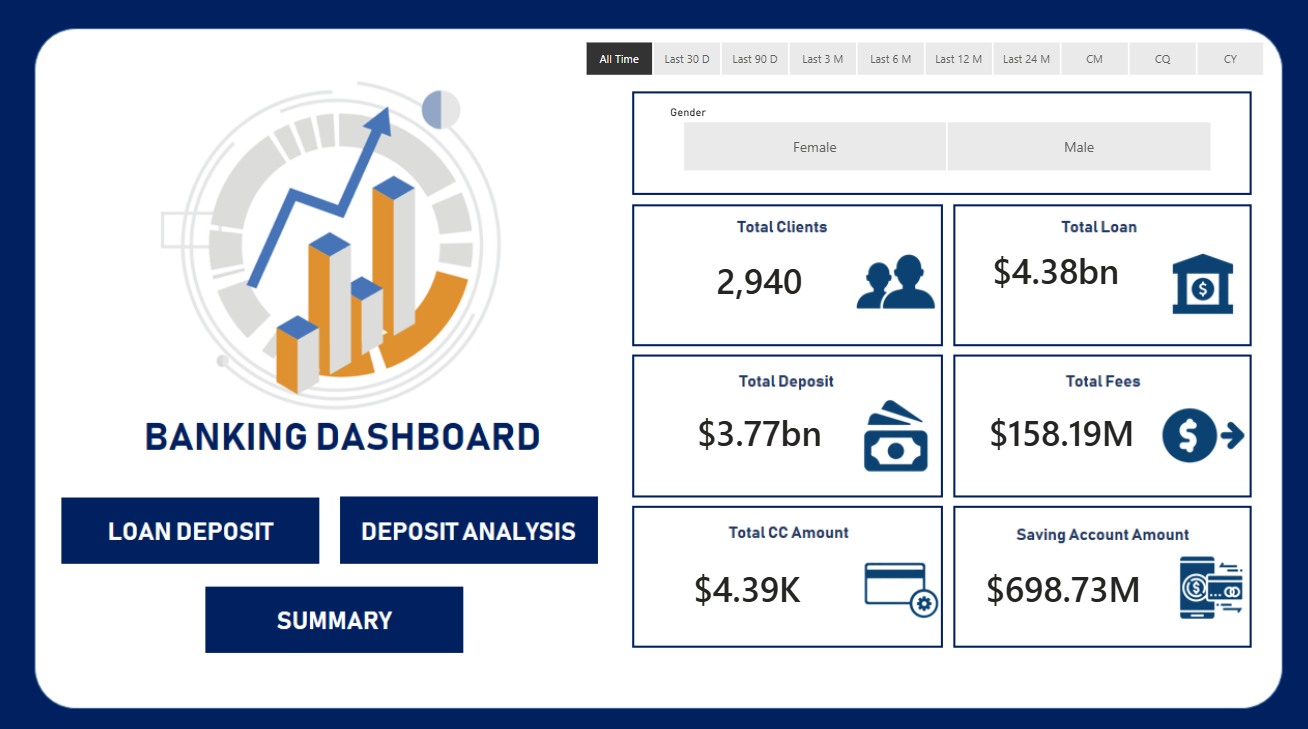

What the dashboard file says about the page in this screenshot:
{"tool":"powerbi","page":{"name":"Home 2","canvas":[1280,720],"ordinal":1},"visuals":[{"type":"card","fields":{"Values":["CountNonNull(banking_case customer.Name)"]},"box":[580.5,275.2,213.6,74.7],"z":0},{"type":"slicer","fields":{"Values":["banking_case customer.GenderId"]},"box":[629.8,145.2,614.3,81],"z":1000},{"type":"card","fields":{"Values":["banking_case customer.Total Loan"]},"box":[951.4,275.2,214.9,74.7],"z":2000},{"type":"card","fields":{"Values":["banking_case customer.Total Deposit"]},"box":[581.8,419.3,212.3,74.7],"z":3000},{"type":"slicer","fields":{"Values":["banking_case customer.Year of Joining"]},"box":[671.4,83.3,560.7,34.5],"z":4000},{"type":"card","fields":{"Values":["Sum(banking_case customer.Saving Accounts)"]},"box":[580.5,560.9,213.6,74.7],"z":5000},{"type":"card","fields":{"Values":["Sum(banking_case customer.Business Lending)"]},"box":[951.4,559.5,213.6,74.7],"z":6000},{"type":"card","fields":{"Values":["Sum(banking_case customer.Checking Accounts)"]},"box":[951.4,418,213.6,76],"z":7000},{"type":"actionButton","box":[191.5,514.3,175.7,55.4],"z":8000},{"type":"actionButton","box":[348.2,31.7,221.6,39.6],"z":9000},{"type":"actionButton","box":[91.8,417.8,172.5,58.6],"z":10000},{"type":"actionButton","box":[297.5,419.4,185.2,57],"z":11000}]}

Visuals, with their boxes in screenshot pixels (x1, y1, x2, y2), scaled from the page's 1280x720 canvas onto the 1308x729 screenshot:
card - CountNonNull(banking_case customer.Name): [593,279,811,354]
slicer - banking_case customer.GenderId: [644,147,1271,229]
card - banking_case customer.Total Loan: [972,279,1192,354]
card - banking_case customer.Total Deposit: [595,425,811,500]
slicer - banking_case customer.Year of Joining: [686,84,1259,119]
card - Sum(banking_case customer.Saving Accounts): [593,568,811,644]
card - Sum(banking_case customer.Business Lending): [972,566,1190,642]
card - Sum(banking_case customer.Checking Accounts): [972,423,1190,500]
actionButton: [196,521,375,577]
actionButton: [356,32,582,72]
actionButton: [94,423,270,482]
actionButton: [304,425,493,482]
